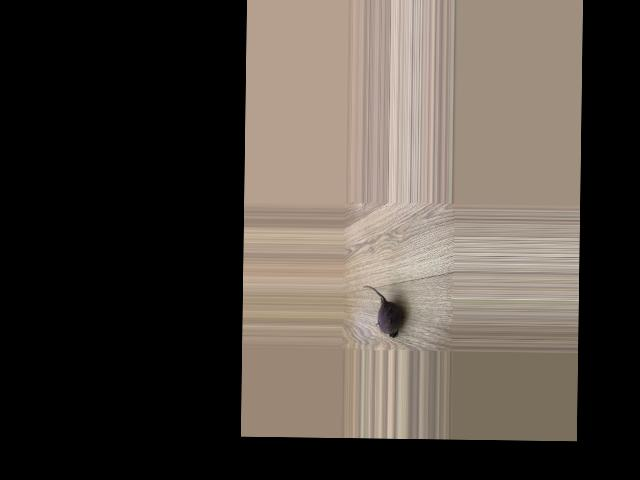beet: (362, 284, 402, 336)
